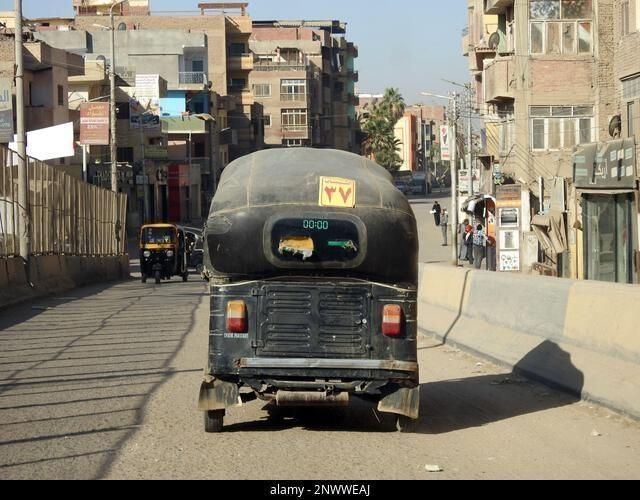keke: (196, 144, 424, 436), (138, 218, 184, 285)
